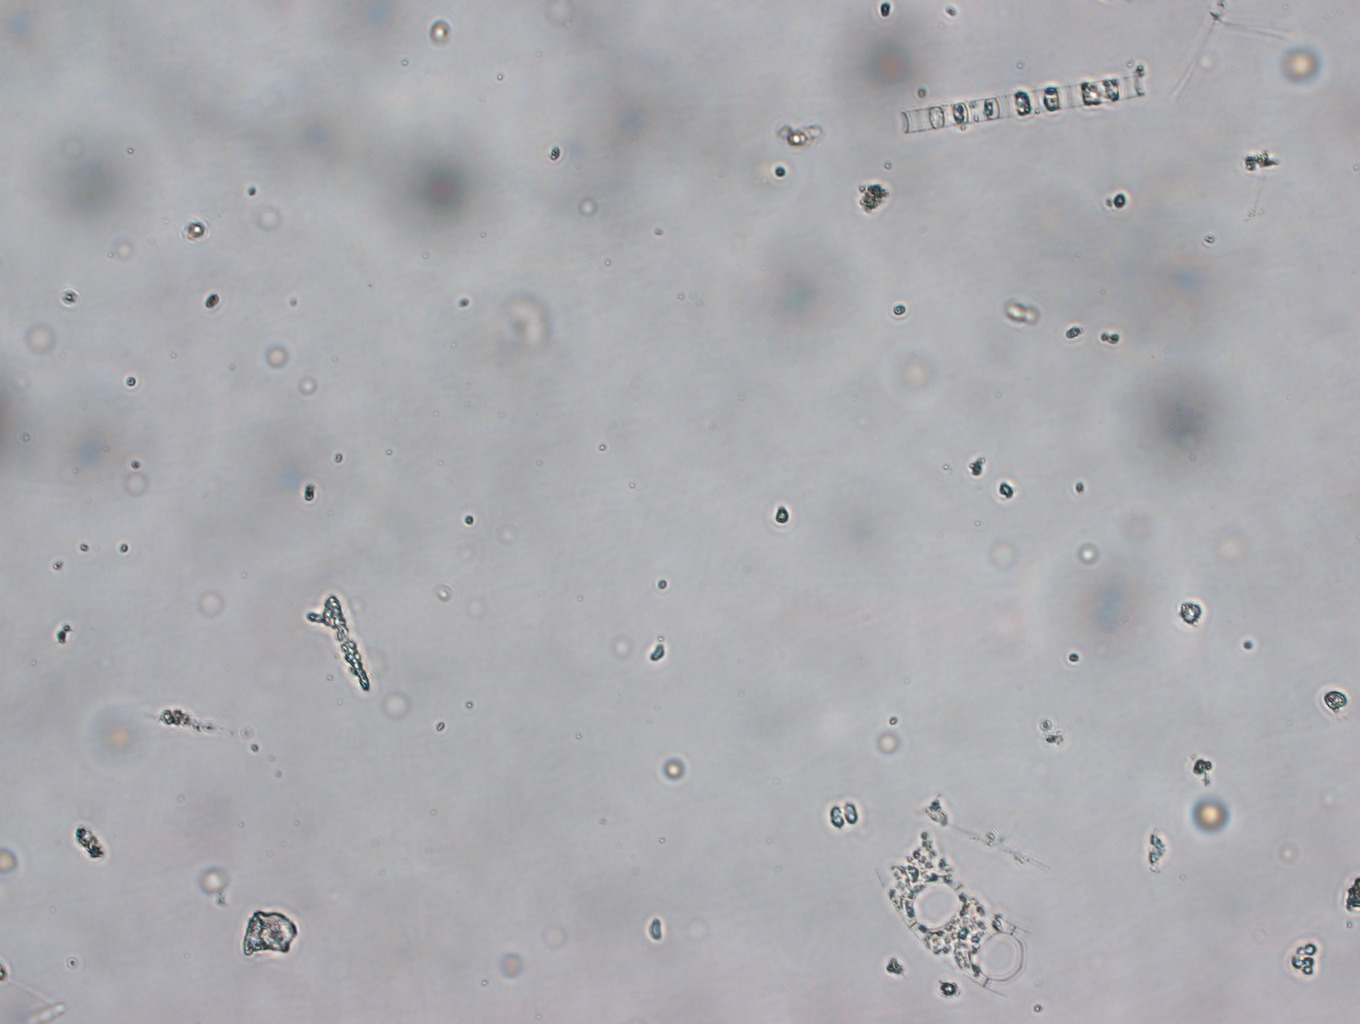eucampia: (858, 802, 1071, 1024)
skeletonema: (871, 58, 1194, 148)
